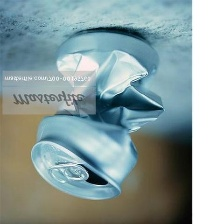can: (28, 25, 167, 203)
